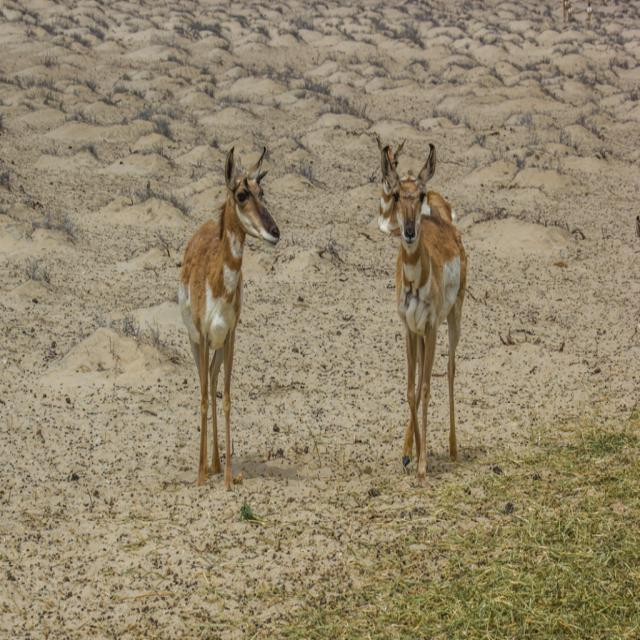Deer: (178, 145, 281, 492), (377, 136, 468, 489)
